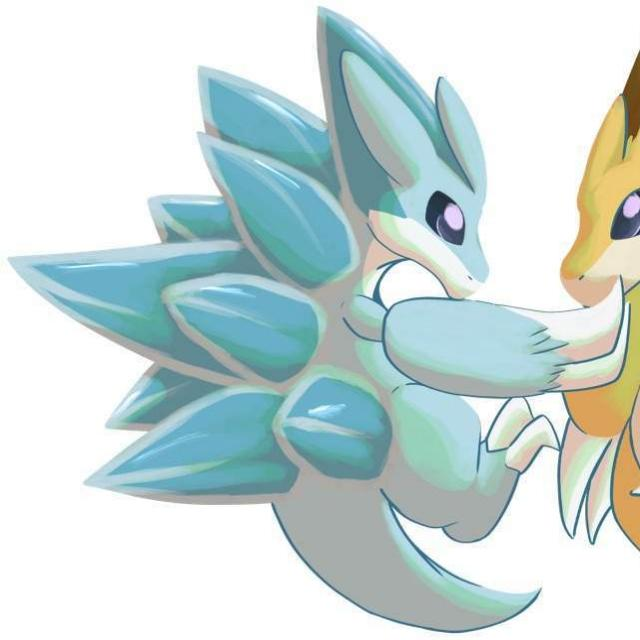Alolan: (104, 51, 540, 553)
